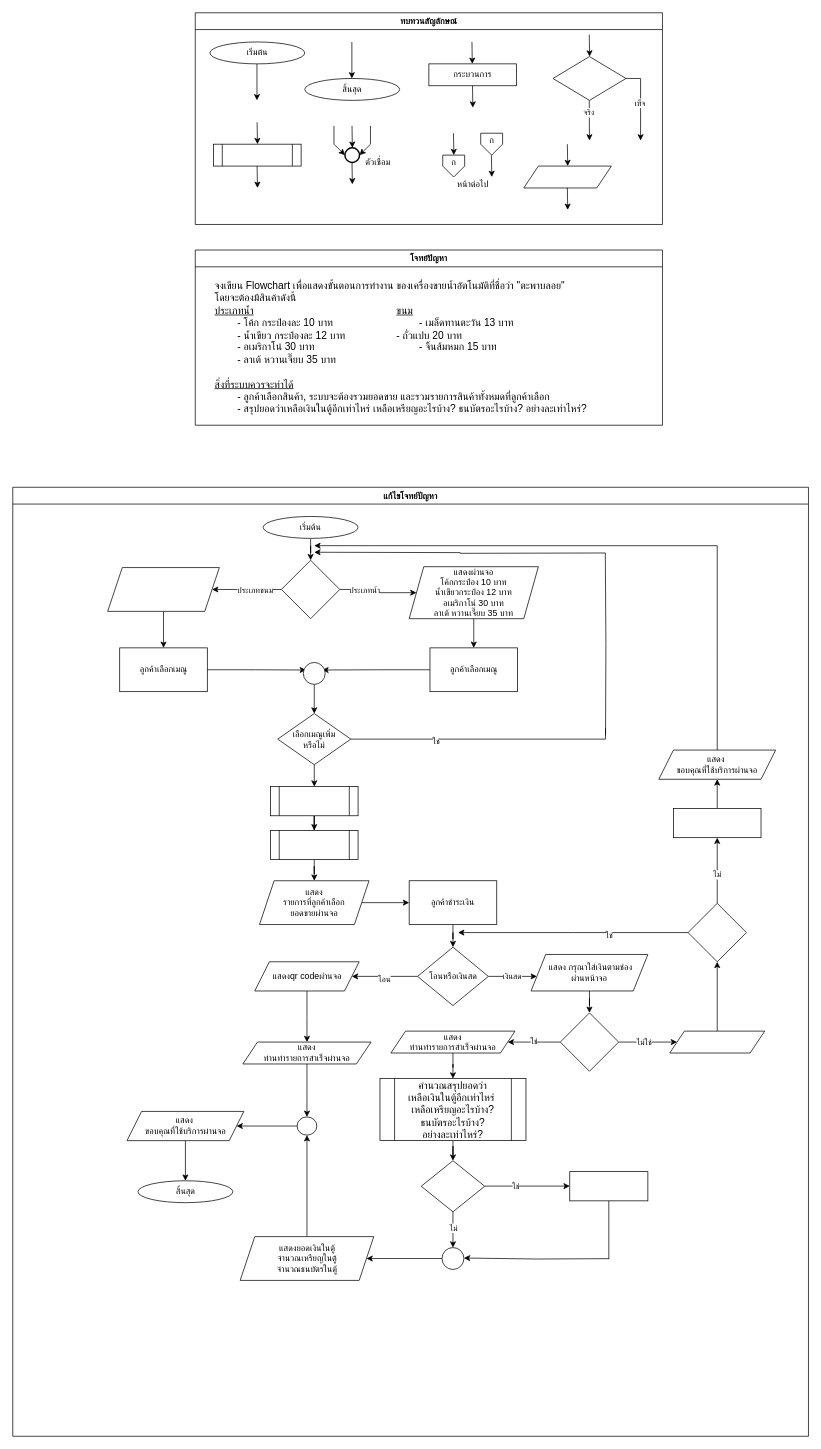
The diagram is 821 pixels wide and 1449 high, and some of its shapes have lost their labels. The shapes that lost their labels are listed below. From the top down, each one's centre as x and y in pixels, then its label:
At pixel 589 78: "ประโยคเงื่อนไข".
At pixel 257 154: "ฟังก์ชัน/โมดูล".
At pixel 567 176: "แสดงผล/รับค่า".
At pixel 163 589: "แสดงผ่านจอ เมล็ดทานตะวัน 13 บาท ถั่วแปบ 20 บาท จิ้นส้มหมก 15 บาท".
At pixel 310 589: "ลูกค้าเลือก ประเภท".
At pixel 314 801: "รวมรายการที่ลูกค้าเลือก".
At pixel 717 823: "ถอนเงินคืนให้ลูกค้า".
At pixel 314 845: "คำนวณยอดขาย".
At pixel 716 932: "ต้องการชำระเงินต่อมั้ย".
At pixel 589 1041: "เงินพอหรือไม่".
At pixel 717 1041: "แสดงยอดเงิน ไม่เพียงพอผ่านจอ".
At pixel 452 1186: "ต้องทอน เงินหรือไม่".
At pixel 608 1186: "ทอนเงินให้ลูกค้า".
